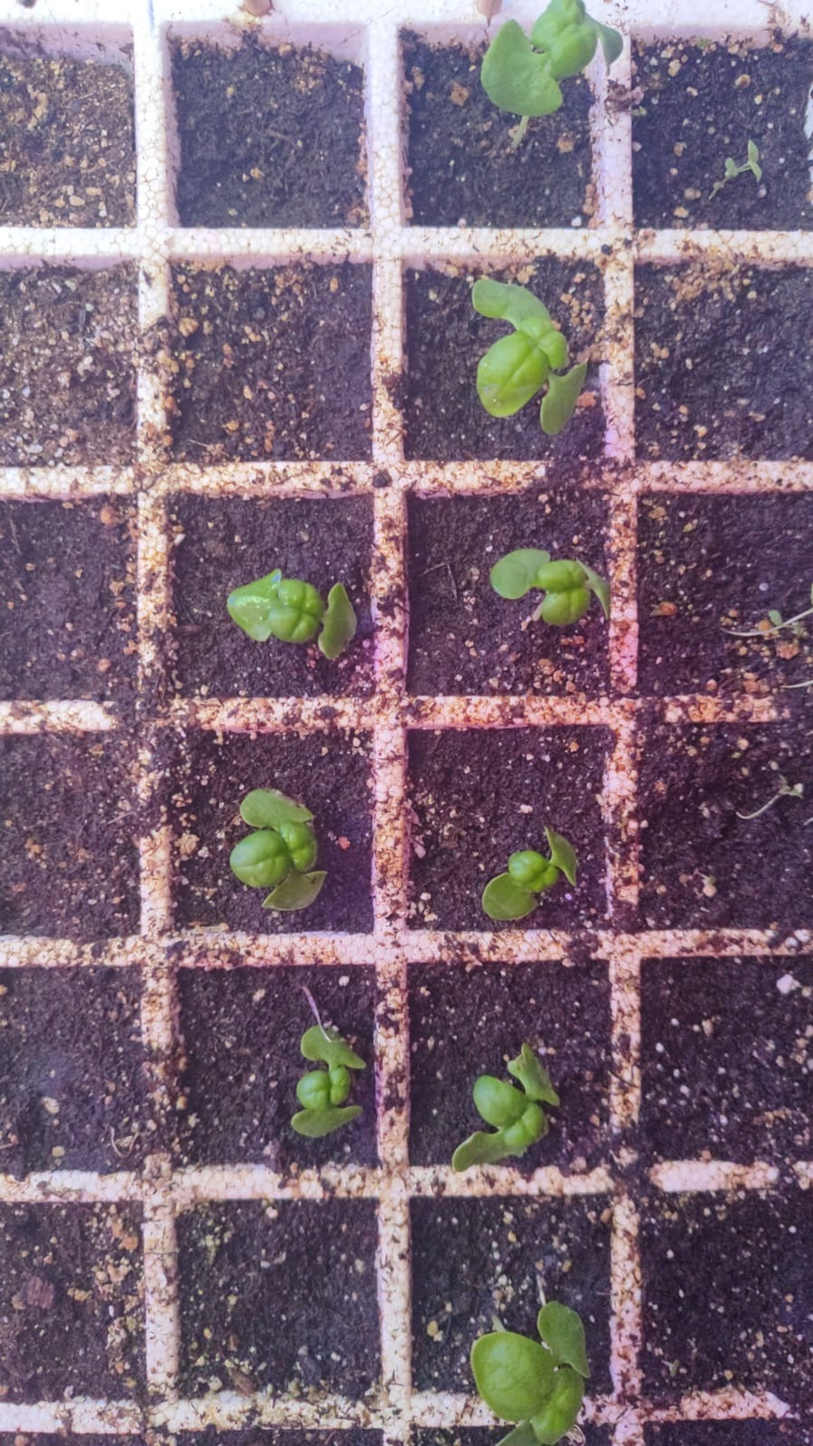Folha: (396, 1038, 572, 1261), (454, 1295, 599, 1432), (222, 781, 328, 917), (225, 562, 358, 661), (487, 542, 613, 630), (237, 782, 327, 904), (477, 825, 583, 924), (288, 1021, 368, 1141), (257, 792, 328, 918), (0, 1383, 144, 1445), (471, 1073, 549, 1168), (299, 1148, 376, 1204), (488, 545, 548, 599), (539, 368, 585, 435), (767, 605, 784, 626), (76, 354, 93, 373), (43, 1097, 61, 1114), (779, 784, 801, 795), (137, 748, 152, 764), (69, 194, 84, 206), (496, 1274, 507, 1285), (65, 184, 73, 194), (85, 302, 93, 311)
Germinacao: (463, 260, 599, 451), (458, 1286, 600, 1446), (469, 0, 608, 128), (477, 540, 622, 631), (231, 785, 333, 910), (458, 1046, 559, 1170), (226, 564, 362, 656), (287, 1025, 369, 1140), (480, 830, 579, 921), (222, 95, 311, 184), (683, 92, 767, 184), (712, 312, 791, 397), (284, 1295, 350, 1362), (52, 49, 115, 101)
